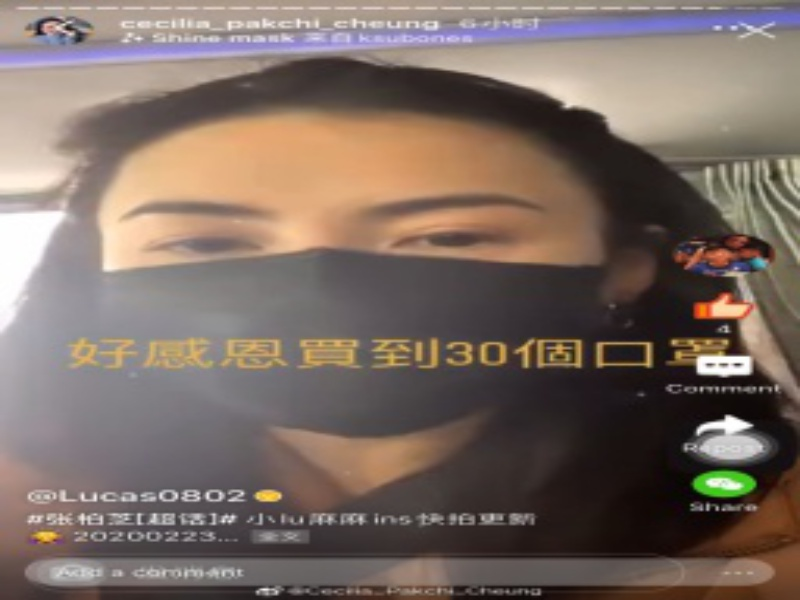ManaoArotava: (59, 62, 685, 498)
